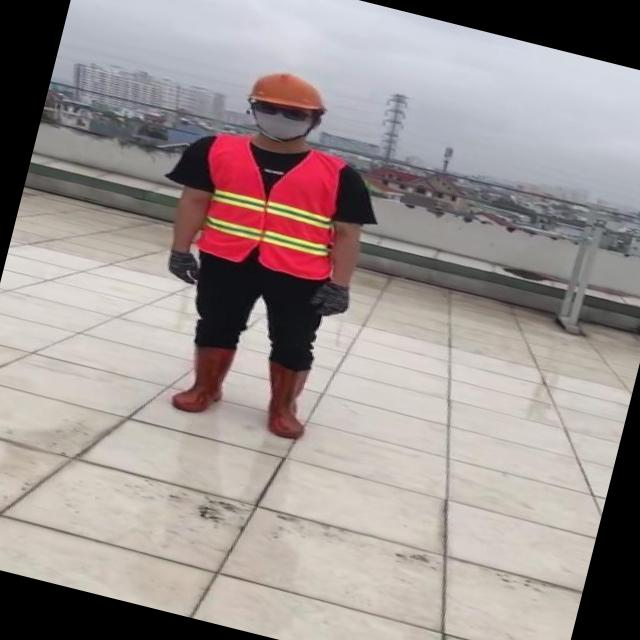hard_hat: (242, 62, 332, 120)
safety_vest: (184, 126, 358, 284)
vehicle: (111, 46, 422, 457)
work_boots: (253, 362, 326, 446), (169, 338, 235, 416)
